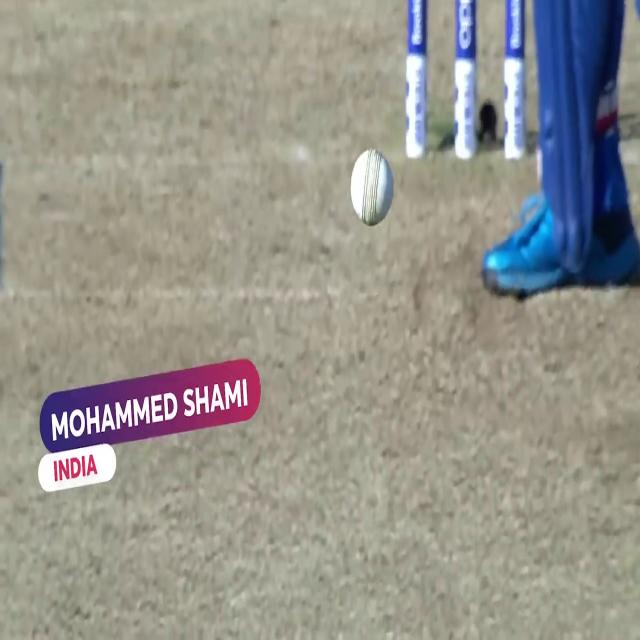ball: (347, 141, 401, 234)
